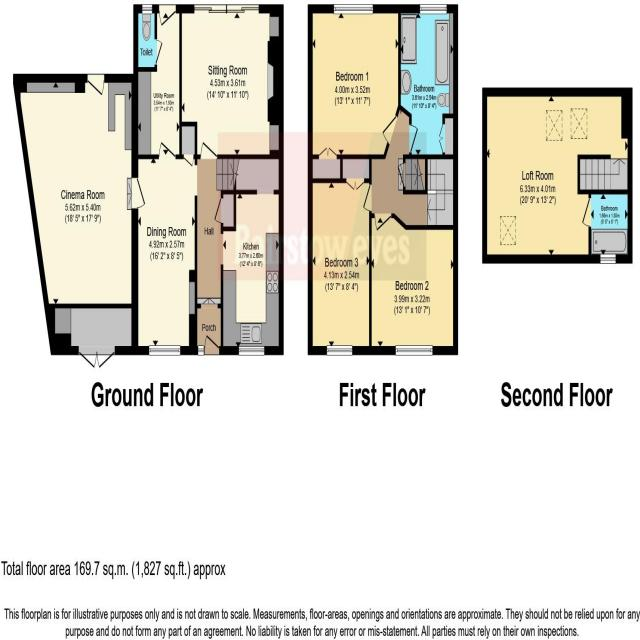DOOR: (381, 113, 398, 145), (158, 4, 177, 28), (87, 74, 105, 96), (374, 212, 393, 232), (200, 140, 218, 159), (158, 140, 176, 159), (136, 177, 146, 210), (362, 182, 372, 213), (409, 123, 419, 153), (214, 196, 224, 224)
ROOM: (131, 140, 284, 355), (179, 4, 284, 161), (308, 4, 401, 155), (369, 213, 458, 356), (307, 177, 372, 356)
SLIDING DOOR: (193, 2, 261, 14)
WINDOW: (333, 3, 374, 15), (394, 345, 434, 357), (148, 345, 181, 357), (419, 3, 447, 15), (326, 345, 353, 356), (239, 346, 265, 356)
